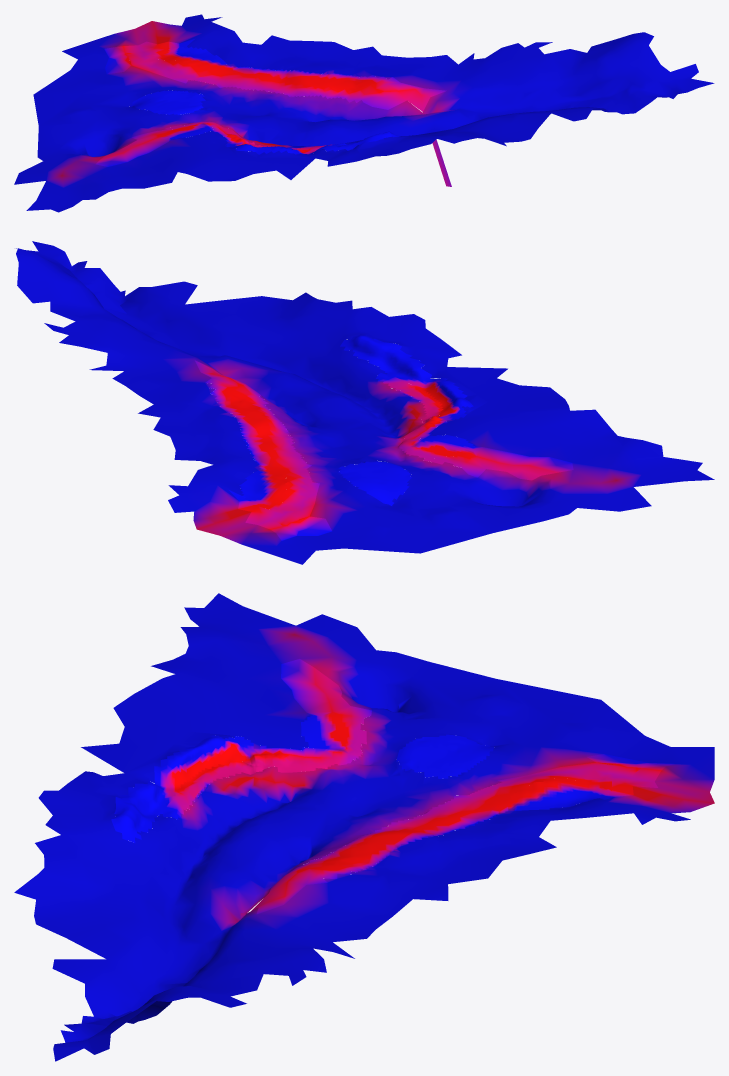
The model's file is Terrain_Parts_2.fbx.
The picture shows the model from 3 angles, top to bottom: view 1: azimuth 30°, elevation 25°; view 2: azimuth 150°, elevation 25°; view 3: azimuth 270°, elevation 25°; orthographic projection. The views are drawn at different scales.
Parts seen in each view (by area): view 1: Grass, Sand, Roock; view 2: Grass, Sand, Roock; view 3: Grass, Sand, Roock.
Boxes of the visible parts, bbox=[...] form: Grass: bbox=[14, 14, 714, 212]; Sand: bbox=[95, 39, 446, 166]; Roock: bbox=[129, 46, 403, 154]; Grass: bbox=[16, 241, 714, 564]; Sand: bbox=[195, 360, 573, 540]; Roock: bbox=[239, 335, 485, 510]; Grass: bbox=[14, 593, 714, 1061]; Sand: bbox=[163, 659, 674, 914]; Roock: bbox=[111, 706, 611, 842].
Size of the model in its own units: 133517 by 12668 by 81493.
